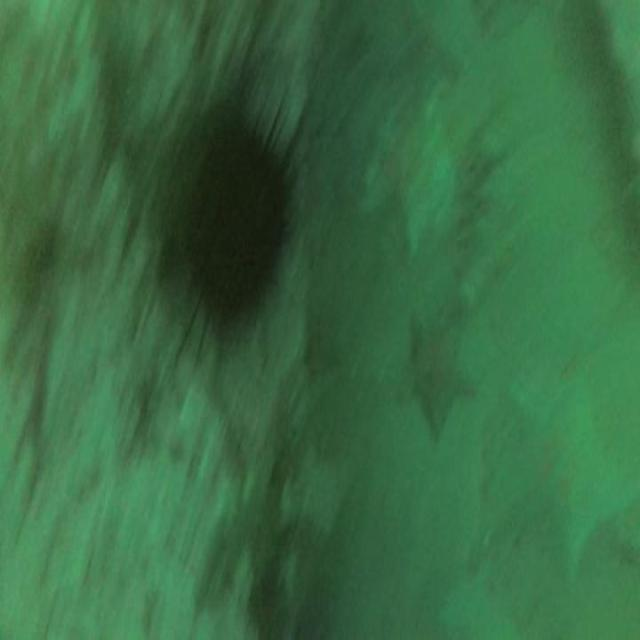echinus: (156, 61, 318, 378)
starfish: (494, 365, 640, 597), (394, 292, 479, 438)
